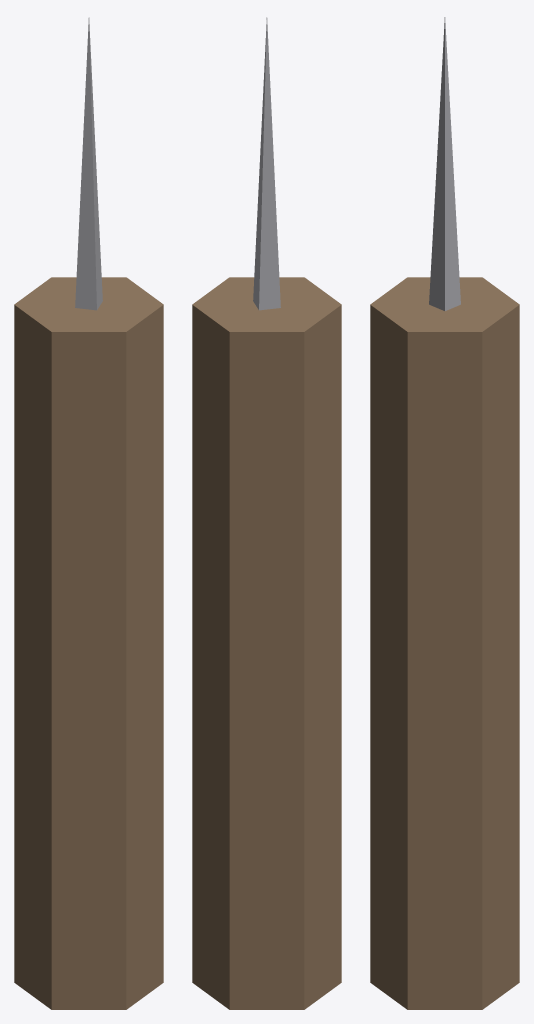
Rendered from prop-pattern-pricker-lb1.fbx.
3 renders of one model, left to right at view 1: azimuth 30°, elevation 25°; view 2: azimuth 150°, elevation 25°; view 3: azimuth 270°, elevation 25°, orthographic.
Visible parts, largest first — view 1: prop-pattern-pricker-lb1; view 2: prop-pattern-pricker-lb1; view 3: prop-pattern-pricker-lb1.
Part boxes in pixels (x1,y1,x2,y2): prop-pattern-pricker-lb1: [14, 17, 163, 1009]; prop-pattern-pricker-lb1: [192, 17, 341, 1009]; prop-pattern-pricker-lb1: [370, 17, 519, 1009].
Bounding box in the file's own units: 1.21 × 10 × 1.4.
